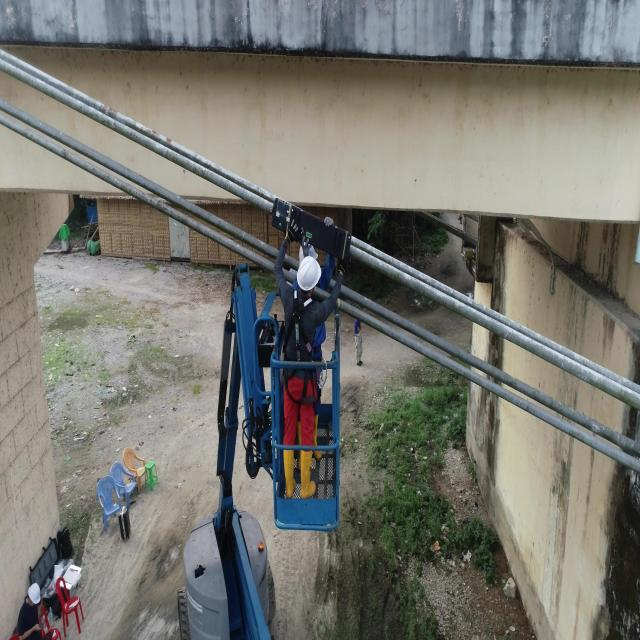corrosion: (109, 108, 118, 120), (166, 137, 172, 148), (100, 105, 107, 113), (152, 130, 157, 141)
crack: (421, 285, 424, 292)
